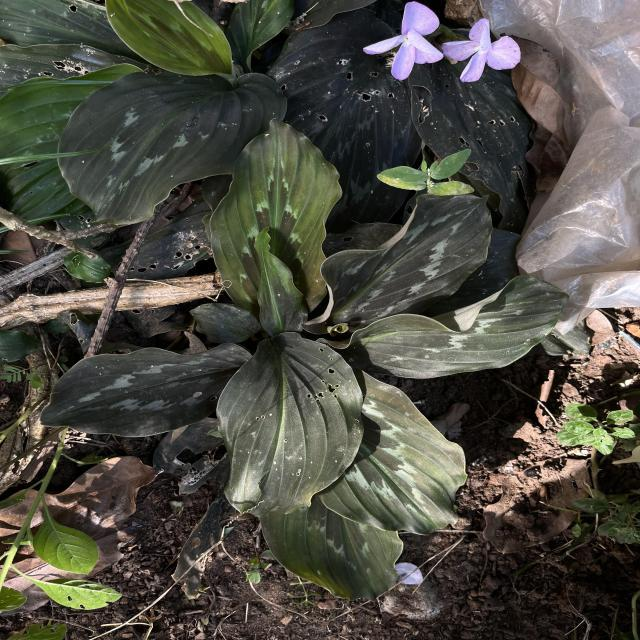Kaempferia galanga linn: (54, 67, 289, 226), (213, 330, 364, 520), (298, 192, 494, 336), (208, 116, 344, 322), (316, 272, 572, 380), (316, 363, 468, 538), (38, 340, 252, 440), (252, 224, 312, 338)
